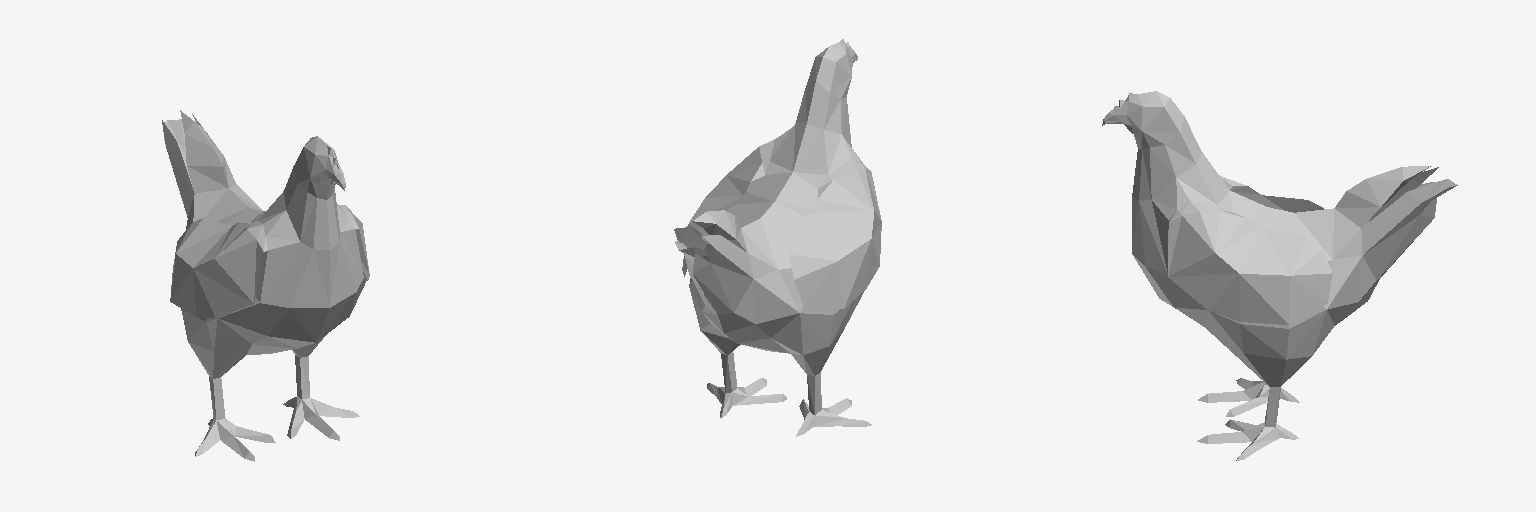
File: hen.obj
The picture shows the model from 3 angles: view 1: azimuth 30°, elevation 25°; view 2: azimuth 150°, elevation 25°; view 3: azimuth 270°, elevation 25°; orthographic projection.
Visible parts, largest first — view 1: skel_chicken; view 2: skel_chicken; view 3: skel_chicken.
Part boxes in pixels (bbox=[...]): skel_chicken: bbox=[162, 110, 369, 461]; skel_chicken: bbox=[674, 39, 881, 436]; skel_chicken: bbox=[1102, 91, 1457, 460].
Size of the model in its own units: 0.1642 by 0.3108 by 0.3038.